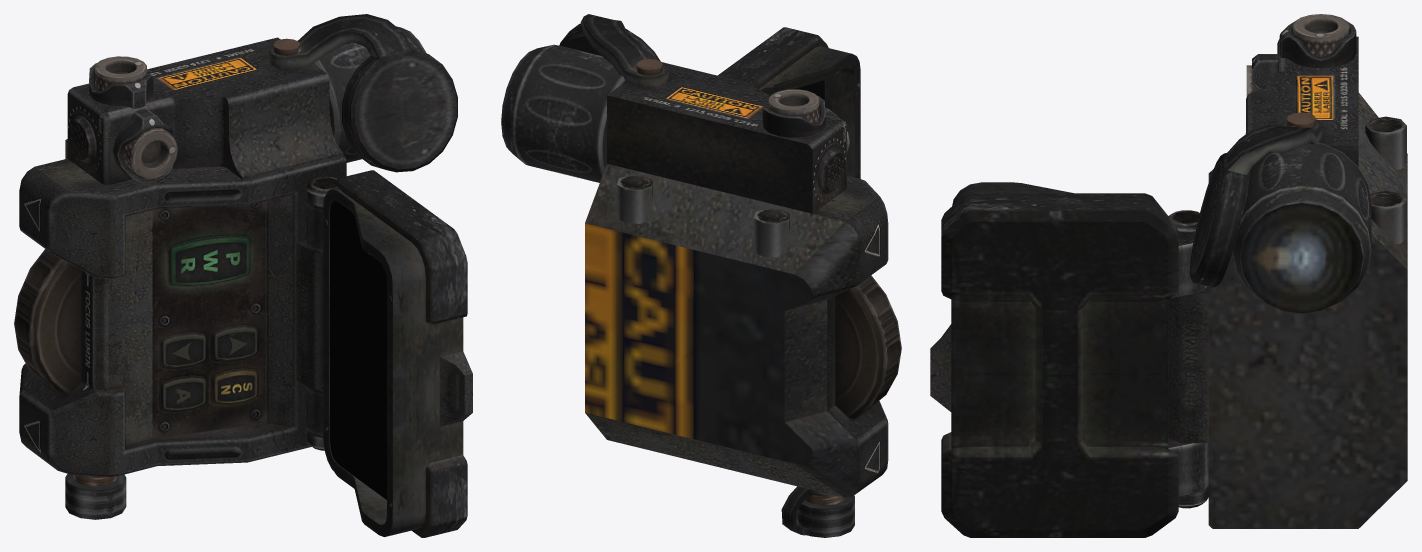
Rendered from t6_attach_optic_mms_view_LOD0.obj.
3 renders of one model, left to right at view 1: azimuth 30°, elevation 25°; view 2: azimuth 150°, elevation 25°; view 3: azimuth 270°, elevation 25°, orthographic. The views are drawn at different scales.
Visible parts, largest first — view 1: mtl_t6_attach_optic_mms, mtl_t6_attach_optic_mms_camo1, mtl_t6_attach_optic_mms_lens; view 2: mtl_t6_attach_optic_mms, mtl_t6_attach_optic_mms_camo1; view 3: mtl_t6_attach_optic_mms, mtl_t6_attach_optic_mms_camo1.
Part boxes in pixels (x1,y1,x2,y2): mtl_t6_attach_optic_mms: (19, 14, 472, 536); mtl_t6_attach_optic_mms_camo1: (14, 31, 467, 537); mtl_t6_attach_optic_mms_lens: (330, 201, 386, 499); mtl_t6_attach_optic_mms: (501, 14, 888, 535); mtl_t6_attach_optic_mms_camo1: (513, 17, 901, 537); mtl_t6_attach_optic_mms: (930, 14, 1407, 528); mtl_t6_attach_optic_mms_camo1: (941, 26, 1406, 537).
Size of the model in its own units: 6 by 6.5 by 5.89.
